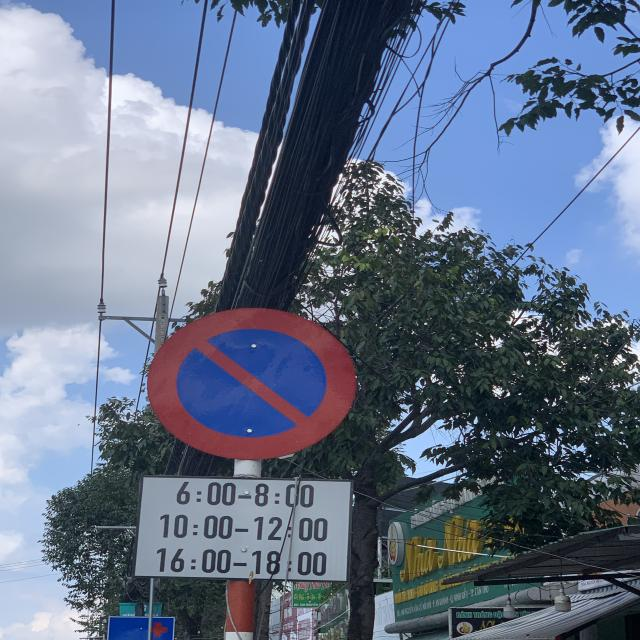Cam_Dau_Xe: (147, 307, 359, 462)
